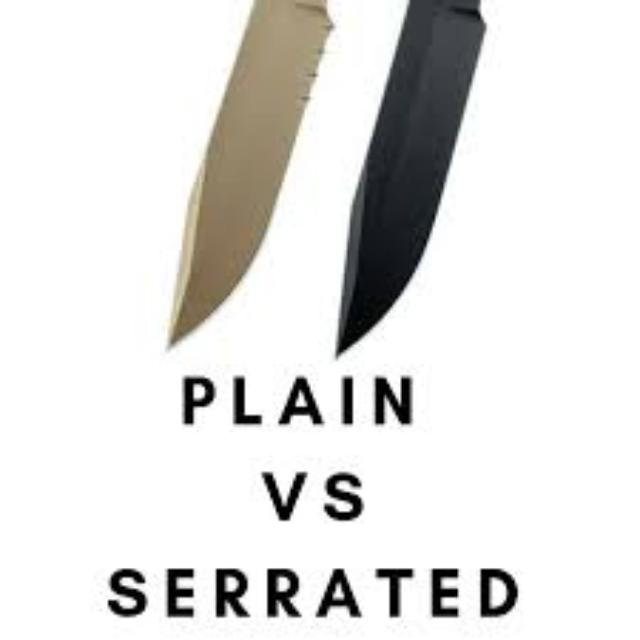knife: (165, 1, 335, 350), (334, 0, 486, 358)
